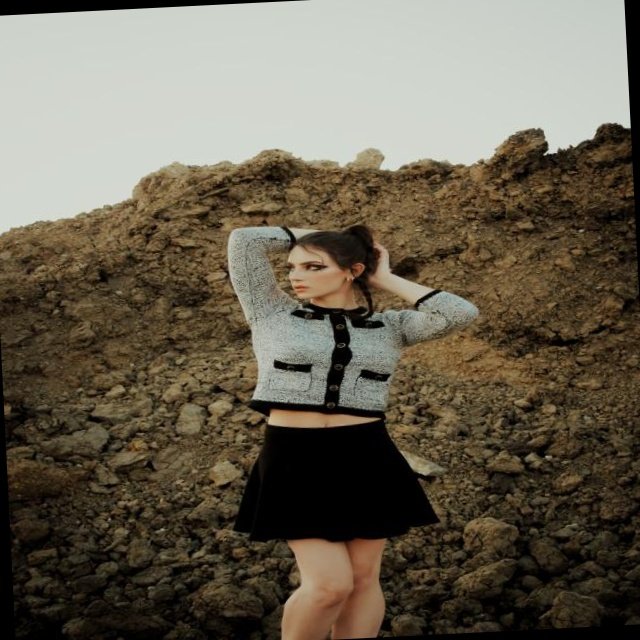Crop_Top: (249, 307, 405, 432)
Miniskirt: (228, 408, 453, 640)
